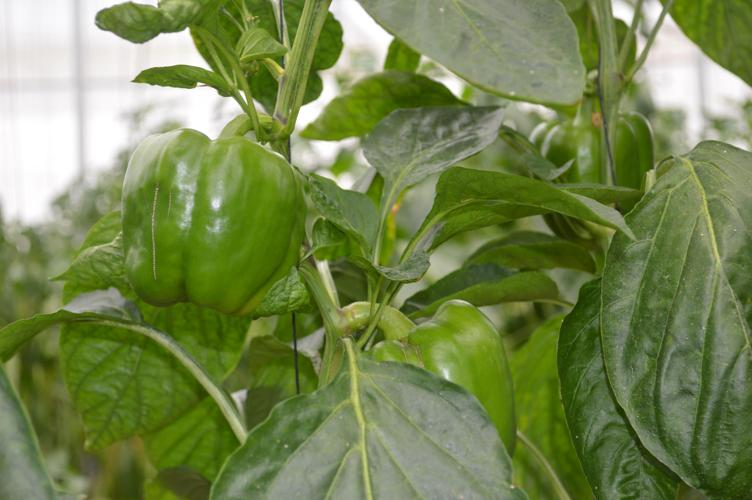BellPepper: (122, 131, 303, 309), (379, 301, 522, 450), (529, 108, 657, 232)
